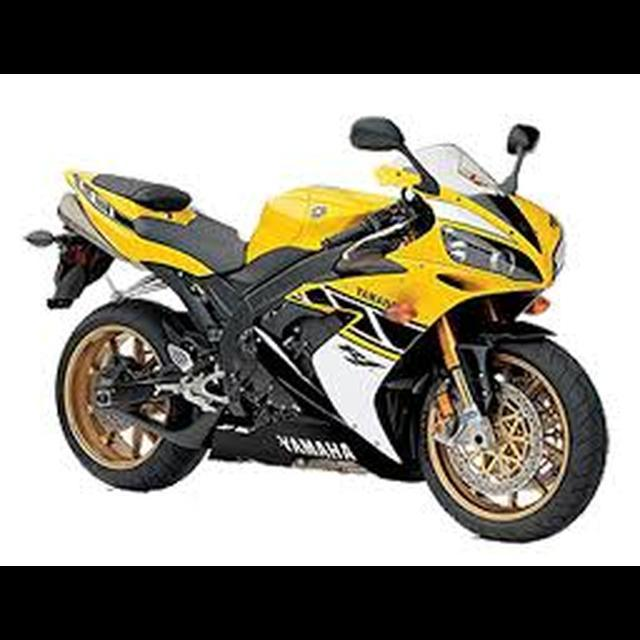motorcycle: (21, 111, 610, 548)
